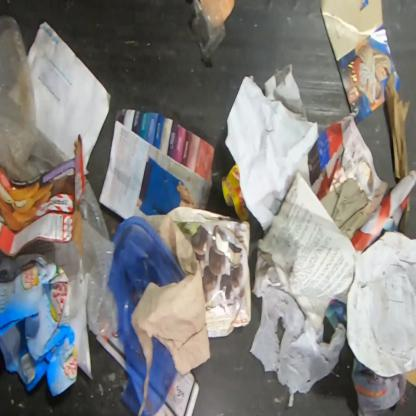cardboard: (99, 110, 215, 218), (0, 254, 78, 398), (167, 206, 252, 338), (1, 136, 82, 258)
rigid_plastic: (109, 217, 187, 415), (192, 0, 226, 64)
soft_plastic: (0, 14, 76, 186), (82, 172, 119, 337)
